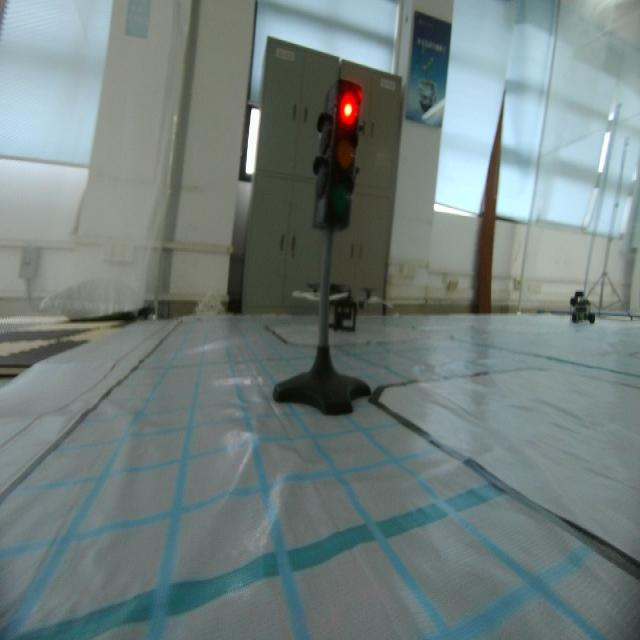red: (314, 73, 362, 241)
